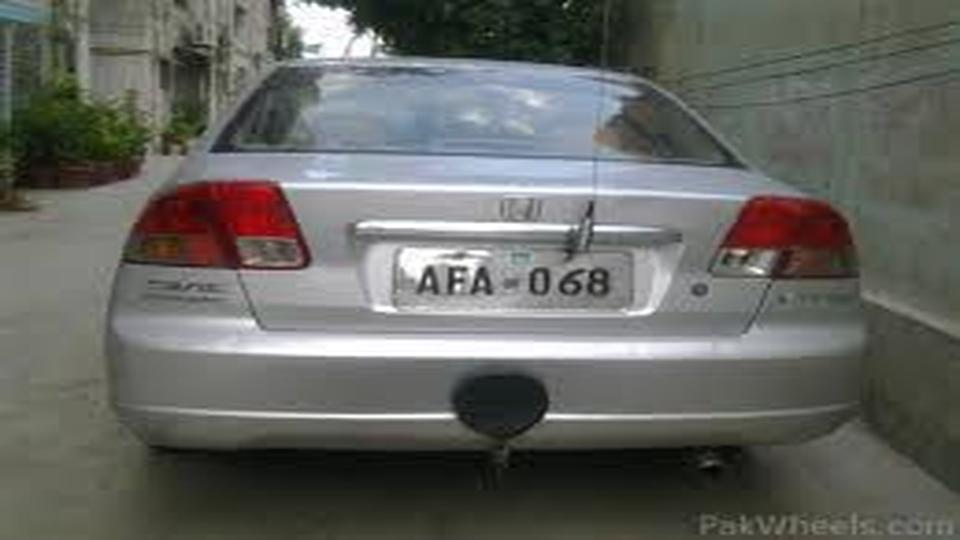NumberPlate: (394, 234, 642, 312)
